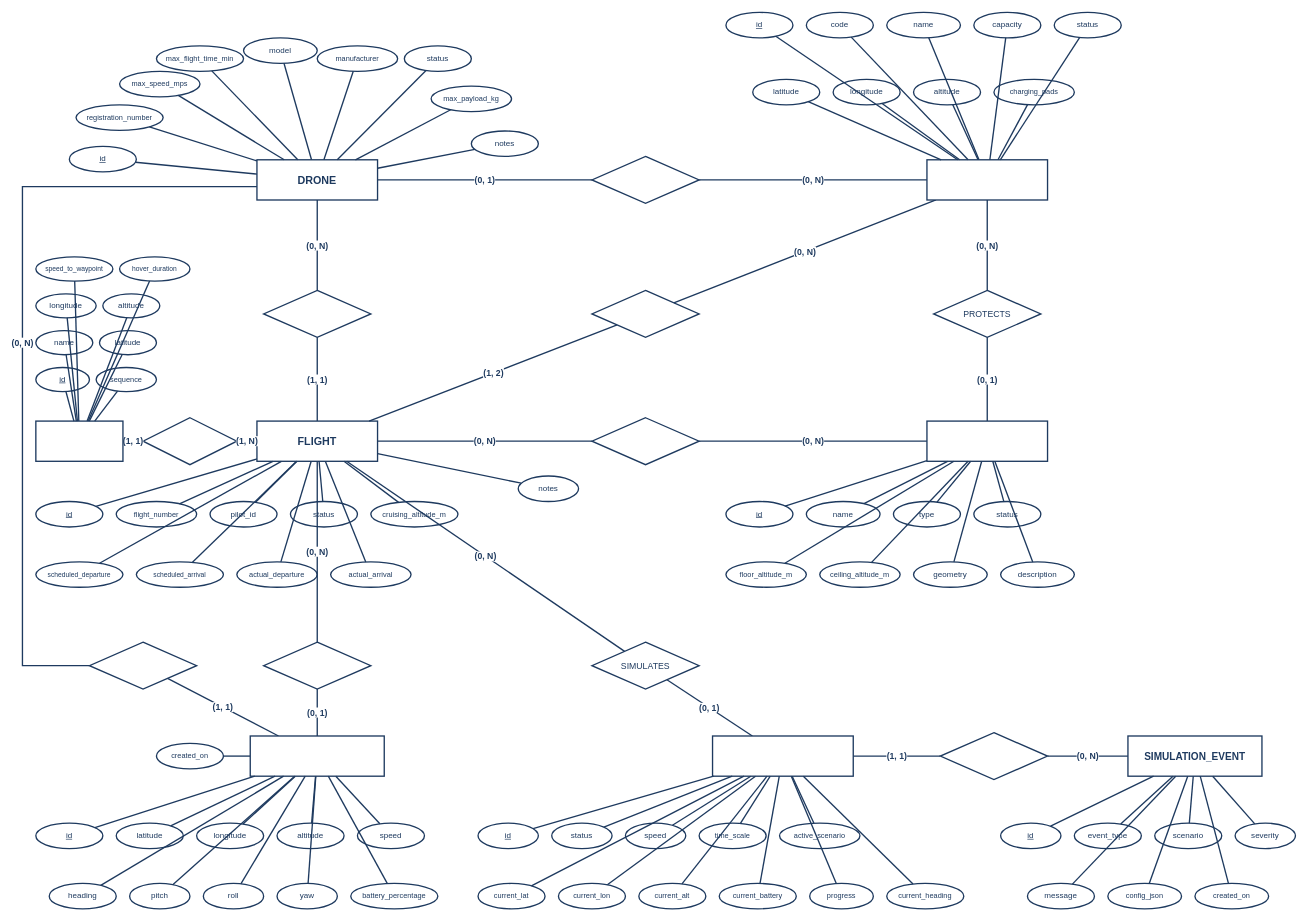
The diagram is 1308 pixels wide and 921 high, and some of its shapes have lost their labels. The shapes that lost their labels are listed below. From the top down, each one's centre as x and y in pixels, then its label:
At point 645,179: "STATIONED-AT".
At point 987,179: "HUB".
At point 317,313: "OPERATES".
At point 645,313: "ROUTES-TO".
At point 79,441: "WAYPOINT".
At point 189,441: "CONSISTS-OF".
At point 645,441: "TRAVERSES".
At point 987,441: "AIRSPACE_ZONE".
At point 142,665: "EMITS".
At point 317,665: "GENERATES".
At point 317,756: "TELEMETRY_RECORD".
At point 783,756: "SIMULATION_SESSION".
At point 993,756: "PRODUCES".
